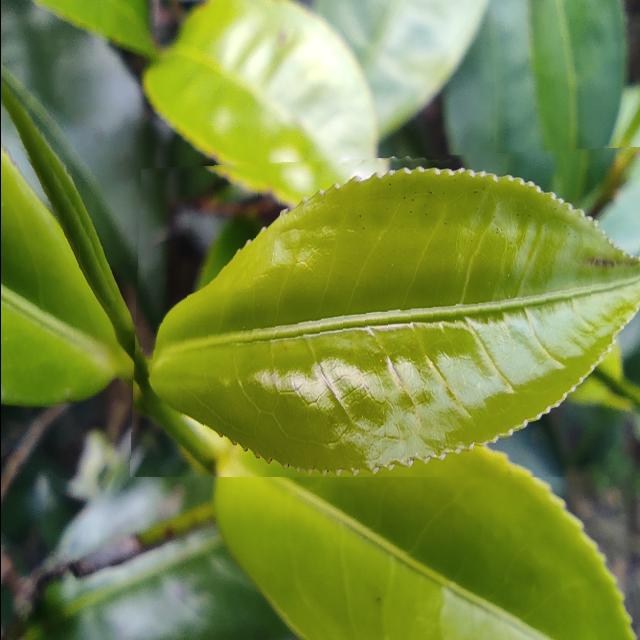Category B(2-4 days): (128, 146, 640, 477)
